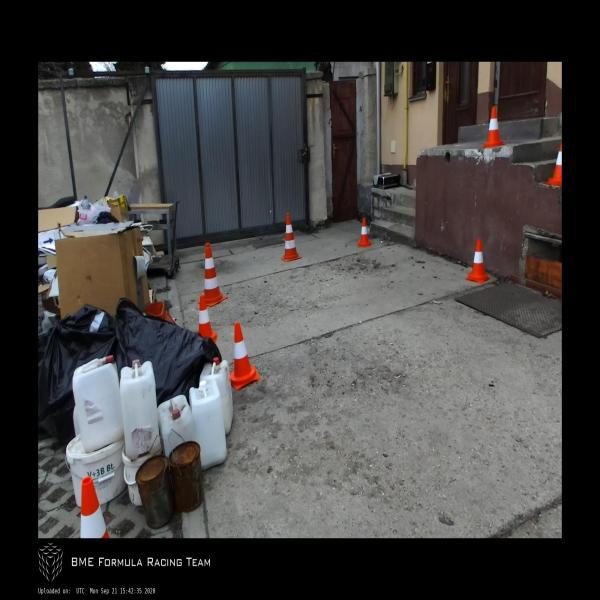large_orange_cone: (198, 243, 227, 306), (281, 214, 301, 262)
orange_cone: (231, 323, 260, 390), (80, 477, 111, 538), (465, 238, 490, 283), (482, 106, 505, 147), (198, 295, 217, 343), (544, 139, 562, 185), (357, 218, 371, 246)
